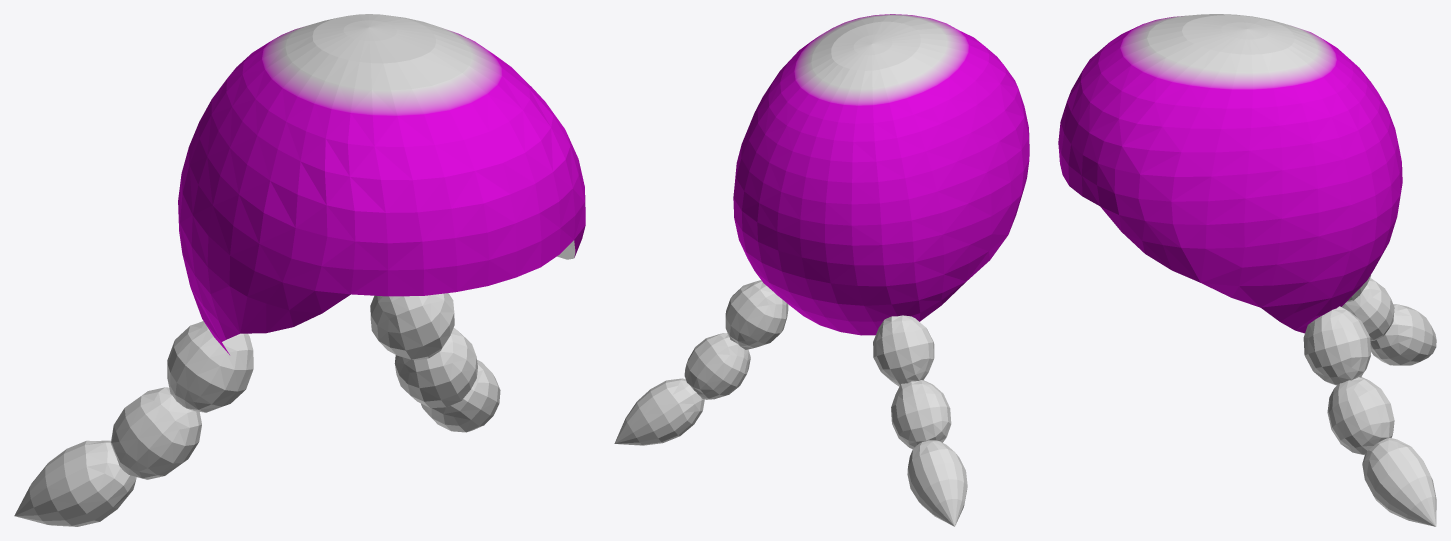
3 views of the same model, side by side, from view 1: azimuth 30°, elevation 25°; view 2: azimuth 150°, elevation 25°; view 3: azimuth 270°, elevation 25° (orthographic). The views are drawn at different scales.
Parts seen in each view (by area): view 1: shape; view 2: shape; view 3: shape.
Part boxes in pixels (x1=…): shape: x1=14, y1=14, x2=585, y2=526; shape: x1=614, y1=14, x2=1029, y2=526; shape: x1=1058, y1=14, x2=1436, y2=526.
Size of the model in its own units: 80.46 by 85.8 by 71.62.
